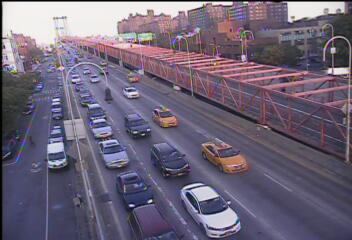neg: (140, 100, 175, 147), (235, 80, 264, 119), (26, 184, 54, 220), (186, 34, 212, 68), (12, 93, 37, 127), (259, 153, 284, 186), (275, 34, 299, 66), (276, 102, 300, 134), (7, 32, 30, 61), (139, 173, 161, 203), (74, 61, 96, 90), (224, 156, 244, 183), (112, 38, 131, 63), (60, 112, 78, 136), (103, 90, 120, 113), (57, 161, 72, 181), (151, 44, 164, 62)
